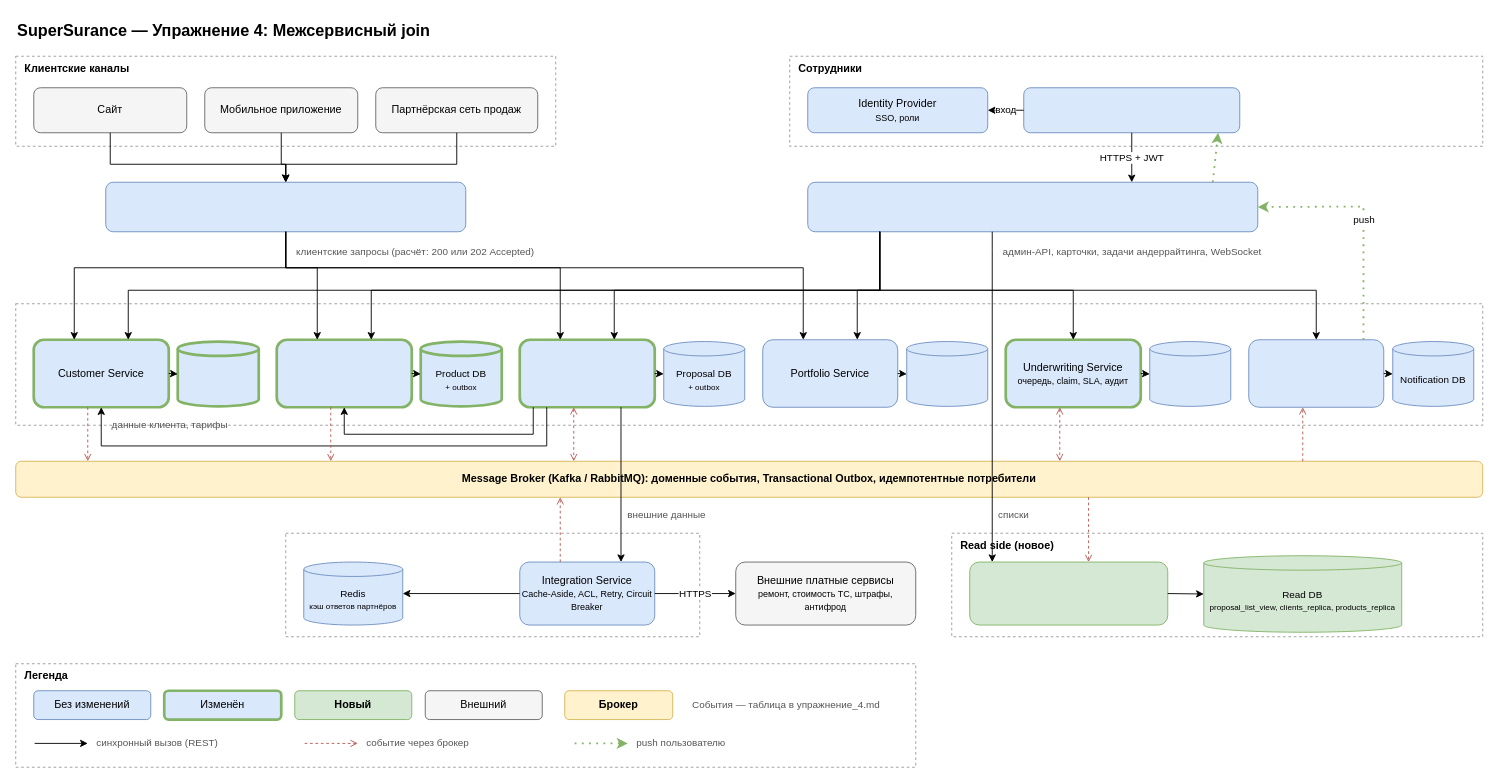
Some shapes in this 1499 by 783 pixel diagram are drawn without their labels. Each missing label, with the box of its shape:
API Gateway маршрутизация, rate limiting, аутентификация каналов: (105, 181, 466, 232)
Back-office андеррайтеры, администраторы: (1023, 87, 1240, 133)
Customer DB + outbox: (176, 340, 260, 407)
Internal Gateway / BFF токен и роли, API Composition, WebSocket: (807, 181, 1258, 232)
Notification Service событие → получатели, история: (1248, 339, 1384, 407)
Portfolio DB: (906, 341, 988, 406)
Product Service: (275, 338, 413, 408)
Proposal Service расчёт, правило «в андеррайтинг», статусы: (518, 338, 656, 408)
Query Service списки: фильтры, сортировка, keyset-пагинация: (969, 561, 1168, 625)
Underwriting DB + outbox: (1149, 341, 1231, 406)
Домен интеграций: (285, 532, 700, 637)
Сервисы: (15, 303, 1483, 425)
